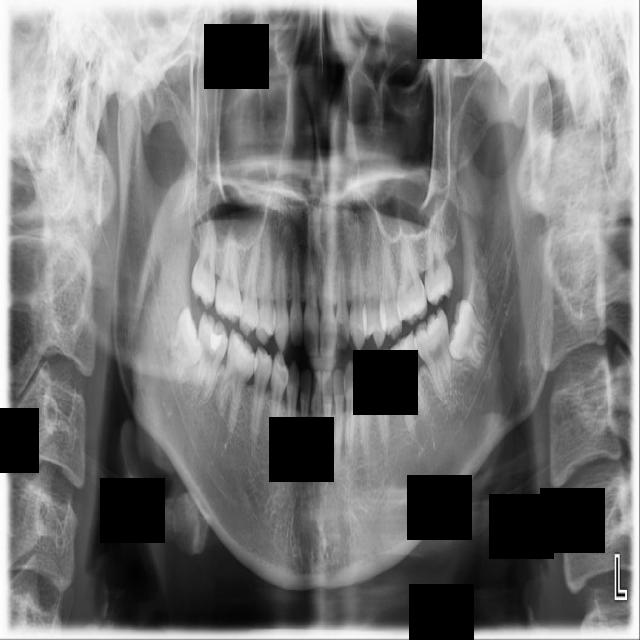52: (193, 310, 233, 362)
73: (600, 590, 604, 602)
BioHorizons Implant: (422, 195, 454, 307)
Biomet 3i Implant: (442, 296, 498, 367)
Blue Sky Bio Implant: (412, 306, 454, 402)
Caries: (190, 216, 218, 312)
Implant: (194, 311, 230, 402)
Keystone Dental Implant: (159, 304, 216, 385)
